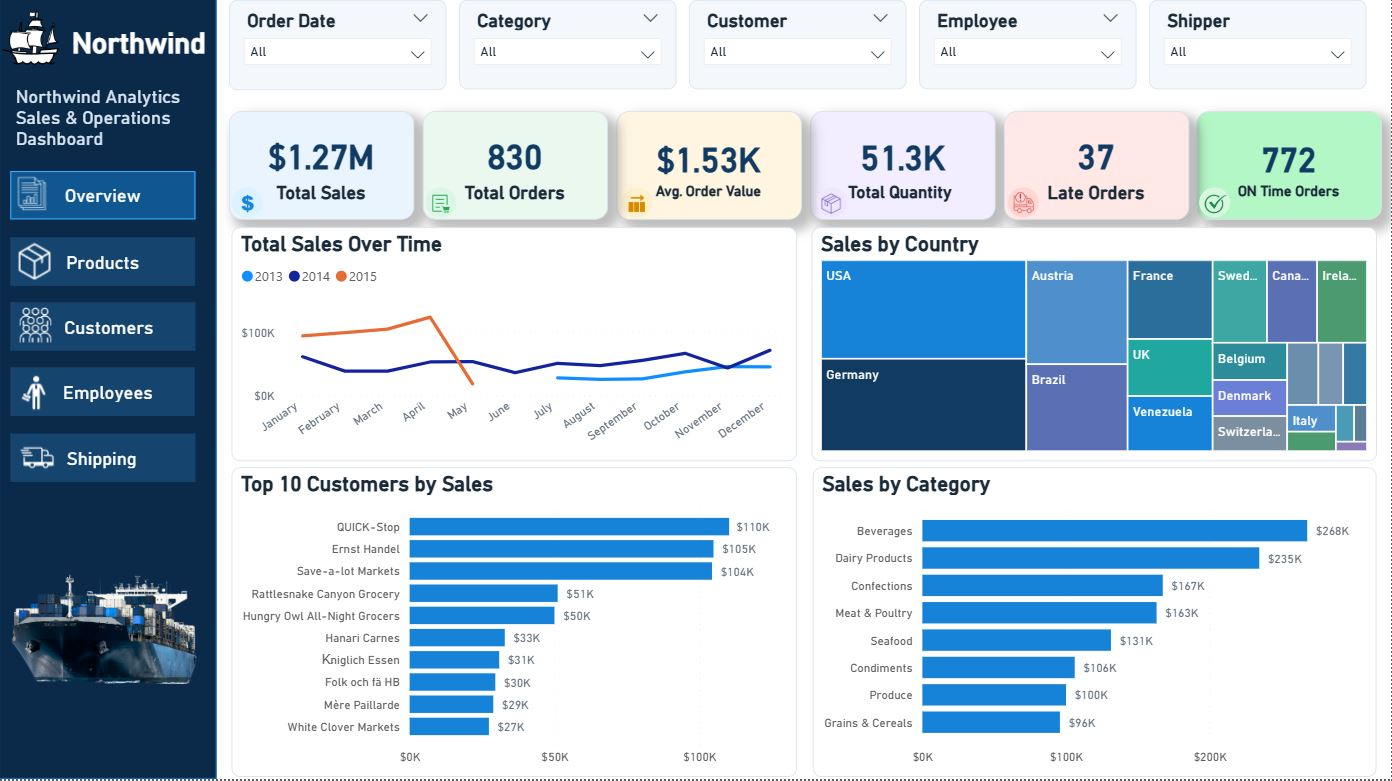

Layout of this report page (visuals, bound fields, positions):
{"tool":"powerbi","page":{"name":"overview","canvas":[1280,720],"ordinal":0},"visuals":[{"type":"shape","box":[0,0,200,720],"z":0,"group":"g3"},{"type":"card","fields":{"Values":["Tables_measures.Total Sales"]},"box":[211.3,105.7,170,100],"z":1000,"group":"g1"},{"type":"card","fields":{"Values":["Tables_measures.Total Orders"]},"box":[389.4,105.7,170,100],"z":1000,"group":"g2"},{"type":"card","fields":{"Values":["Tables_measures.ON_time_orders"]},"box":[1101.7,105.7,170,100],"z":1000},{"type":"card","fields":{"Values":["Tables_measures.Total_quantity"]},"box":[745.6,105.7,170,100],"z":2000},{"type":"card","fields":{"Values":["Tables_measures.Late_orders"]},"box":[923.6,105.7,170,100],"z":3000},{"type":"card","fields":{"Values":["Tables_measures.Average_order_value"]},"box":[567.5,105.7,170,100],"z":4000},{"type":"textbox","title":"Northwind","box":[62.6,27.5,171.2,32.5],"z":5000,"group":"g3"},{"type":"image","box":[1.4,11.2,56.2,55],"z":6000,"group":"g3"},{"type":"textbox","title":"Northwind Analytics Sales & Operations Dashboard","box":[10.1,82.5,200,96.2],"z":7000,"group":"g3"},{"type":"actionButton","title":"Overview","box":[9.9,161.3,170.3,44.5],"z":8000,"group":"g3"},{"type":"actionButton","title":"Overview","box":[10.1,221.3,170,44.7],"z":9000,"group":"g3"},{"type":"actionButton","title":"Overview","box":[9.9,281.5,170.3,44.5],"z":10000,"group":"g3"},{"type":"actionButton","title":"Overview","box":[9.9,341.5,169.7,45.2],"z":11000,"group":"g3"},{"type":"actionButton","title":"Overview","box":[9.9,402.2,170.3,44.5],"z":12000,"group":"g3"},{"type":"slicer","fields":{"Values":["orders.orderDate"]},"box":[212,4,200,83],"z":13000},{"type":"slicer","fields":{"Values":["categories.categoryName"]},"box":[423,4,200,82],"z":14000},{"type":"slicer","fields":{"Values":["customers.companyName"]},"box":[635,4,200,82],"z":15000},{"type":"shape","box":[1103.7,176.4,28.7,28],"z":16000},{"type":"slicer","fields":{"Values":["shippers.companyName"]},"box":[1057,4,200,82],"z":17000},{"type":"slicer","fields":{"Values":["employees.employeeName"]},"box":[846,4,200,82],"z":18000},{"type":"image","box":[1094,180.7,48.7,21.3],"z":19000},{"type":"shape","box":[751.6,176.4,28.7,28],"z":20000},{"type":"shape","box":[928,176.4,28.7,28],"z":21000},{"type":"shape","box":[572.3,176.4,28.7,28],"z":22000},{"type":"image","box":[561.9,180,48.1,20.6],"z":23000},{"type":"shape","box":[213.3,176.4,28.7,28],"z":24000,"group":"g1"},{"type":"shape","box":[391.4,176.4,28.7,28],"z":24000,"group":"g2"},{"type":"image","box":[737.3,178.7,56.7,25.3],"z":24000},{"type":"image","box":[922.1,180.5,41.1,18.9],"z":25000},{"type":"group","id":"g1","title":"Group 3","box":[205.3,105.7,176,100],"z":26000},{"type":"image","box":[205.3,181,45.3,18.7],"z":26000,"group":"g1"},{"type":"image","box":[389.9,182.7,33.5,16.5],"z":26000,"group":"g2"},{"type":"group","id":"g2","title":"Group 4","box":[389.4,105.7,170,100],"z":27000},{"type":"lineChart","title":"Total Sales Over Time","fields":{"Y":["Tables_measures.Total Sales"],"Category":["orders.orderDate.Variation.Date Hierarchy.Month"],"Series":["orders.orderDate.Variation.Date Hierarchy.Year"]},"box":[213.8,212.5,520,215],"z":28000},{"type":"clusteredBarChart","title":" Sales by Category","fields":{"Category":["categories.categoryName"],"Y":["Tables_measures.Total Sales"]},"box":[748.8,433.8,518.8,285],"z":29000},{"type":"clusteredBarChart","title":"Top 10 Customers by Sales","fields":{"Y":["Tables_measures.Total Sales"],"Category":["customers.companyName"]},"box":[213.8,433.8,520,285],"z":30000},{"type":"treemap","title":"Sales by Country","fields":{"Group":["customers.country"],"Values":["Tables_measures.Total Sales"]},"box":[747.5,212.5,520,215],"z":31000},{"type":"image","box":[4.9,454,181,266],"z":32000,"group":"g3"},{"type":"group","id":"g3","title":"Group 1","box":[0,0,233.9,720],"z":32001}]}

Visuals, with their boxes in screenshot pixels (x1, y1, x2, y2), scaled from the page's 1280x720 canvas onto the 1392x781 screenshot:
shape: (x1=0, y1=0, x2=217, y2=780)
card - Tables_measures.Total Sales: (x1=230, y1=115, x2=415, y2=223)
card - Tables_measures.Total Orders: (x1=423, y1=115, x2=608, y2=223)
card - Tables_measures.ON_time_orders: (x1=1198, y1=115, x2=1383, y2=223)
card - Tables_measures.Total_quantity: (x1=811, y1=115, x2=996, y2=223)
card - Tables_measures.Late_orders: (x1=1004, y1=115, x2=1189, y2=223)
card - Tables_measures.Average_order_value: (x1=617, y1=115, x2=802, y2=223)
"Northwind" textbox: (x1=68, y1=30, x2=254, y2=65)
image: (x1=2, y1=12, x2=63, y2=72)
"Northwind Analytics Sales & Operations Dashboard" textbox: (x1=11, y1=89, x2=228, y2=194)
"Overview" actionButton: (x1=11, y1=175, x2=196, y2=223)
"Overview" actionButton: (x1=11, y1=240, x2=196, y2=289)
"Overview" actionButton: (x1=11, y1=305, x2=196, y2=354)
"Overview" actionButton: (x1=11, y1=370, x2=195, y2=419)
"Overview" actionButton: (x1=11, y1=436, x2=196, y2=485)
slicer - orders.orderDate: (x1=231, y1=4, x2=448, y2=94)
slicer - categories.categoryName: (x1=460, y1=4, x2=678, y2=93)
slicer - customers.companyName: (x1=691, y1=4, x2=908, y2=93)
shape: (x1=1200, y1=191, x2=1231, y2=222)
slicer - shippers.companyName: (x1=1149, y1=4, x2=1367, y2=93)
slicer - employees.employeeName: (x1=920, y1=4, x2=1138, y2=93)
image: (x1=1190, y1=196, x2=1243, y2=219)
shape: (x1=817, y1=191, x2=849, y2=222)
shape: (x1=1009, y1=191, x2=1040, y2=222)
shape: (x1=622, y1=191, x2=654, y2=222)
image: (x1=611, y1=195, x2=663, y2=218)
shape: (x1=232, y1=191, x2=263, y2=222)
shape: (x1=426, y1=191, x2=457, y2=222)
image: (x1=802, y1=194, x2=863, y2=221)
image: (x1=1003, y1=196, x2=1047, y2=216)
"Group 3" group: (x1=223, y1=115, x2=415, y2=223)
image: (x1=223, y1=196, x2=273, y2=217)
image: (x1=424, y1=198, x2=460, y2=216)
"Group 4" group: (x1=423, y1=115, x2=608, y2=223)
"Total Sales Over Time" lineChart: (x1=233, y1=231, x2=798, y2=464)
" Sales by Category" clusteredBarChart: (x1=814, y1=471, x2=1379, y2=780)
"Top 10 Customers by Sales" clusteredBarChart: (x1=233, y1=471, x2=798, y2=780)
"Sales by Country" treemap: (x1=813, y1=231, x2=1378, y2=464)
image: (x1=5, y1=492, x2=202, y2=780)
"Group 1" group: (x1=0, y1=0, x2=254, y2=780)
